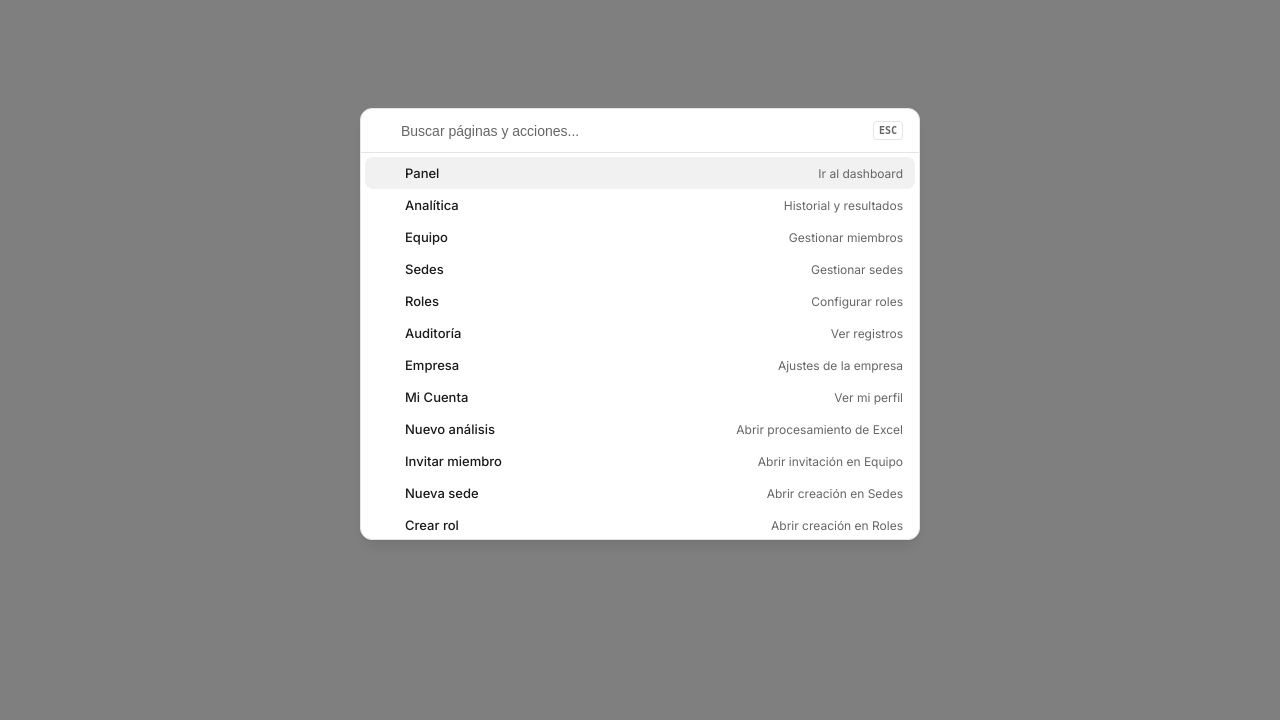
Scenario: CommandPalette › avisa cuando no hay resultados
This screenshot has width=1280, height=720.
Type "zzzz" into the dropdown with placeholder "Buscar páginas y acciones...". click: {"x": 633, "y": 130}
box: [401,122,865,138]
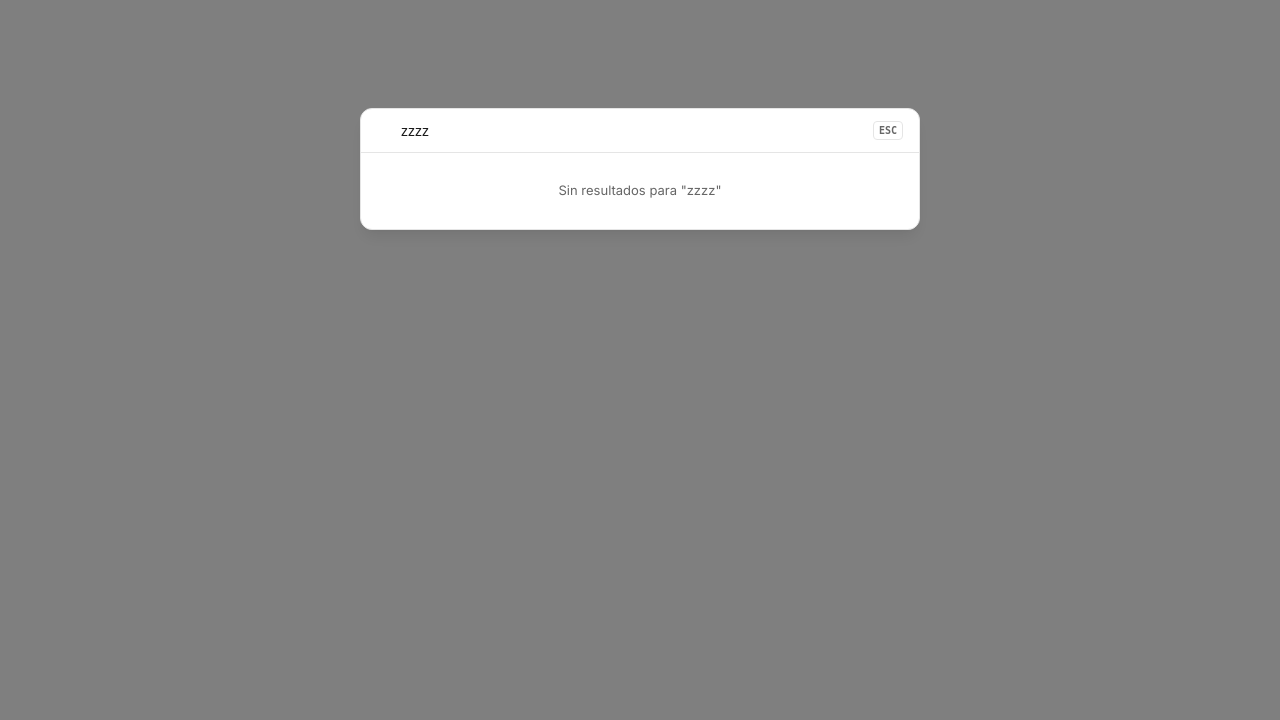
Result: the text "Sin resultados para \"zzzz\"" is shown at [558,182,721,198]
